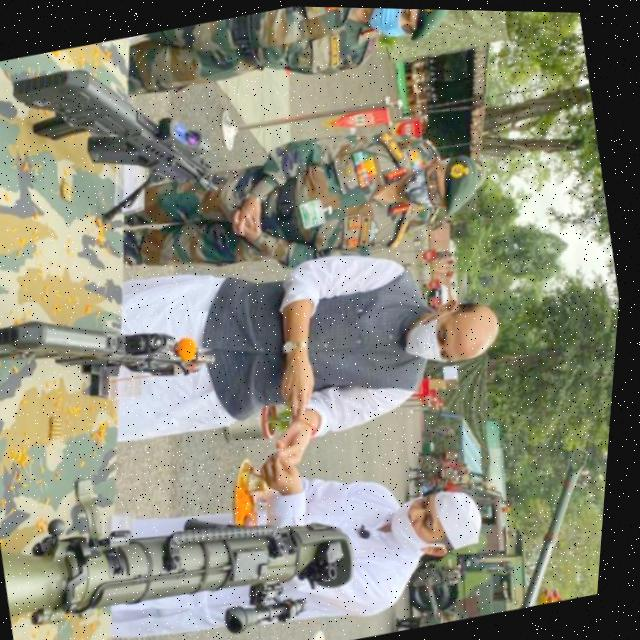rocket: (0, 423, 383, 640)
